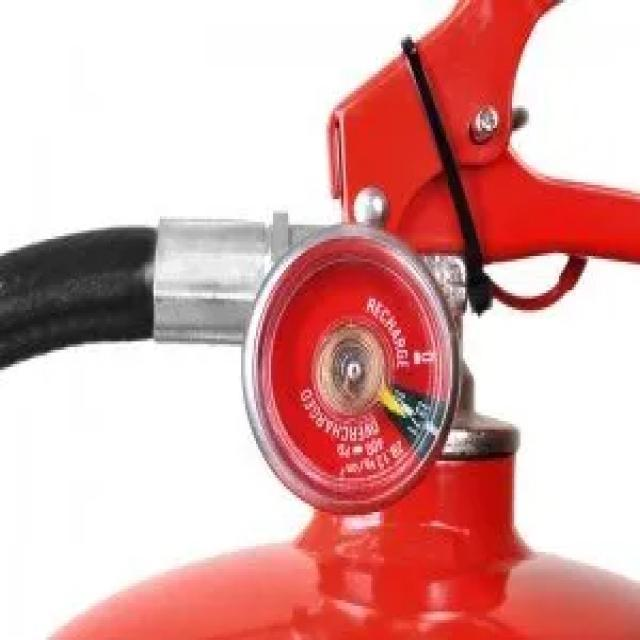pressure gauge: (252, 232, 455, 512)
